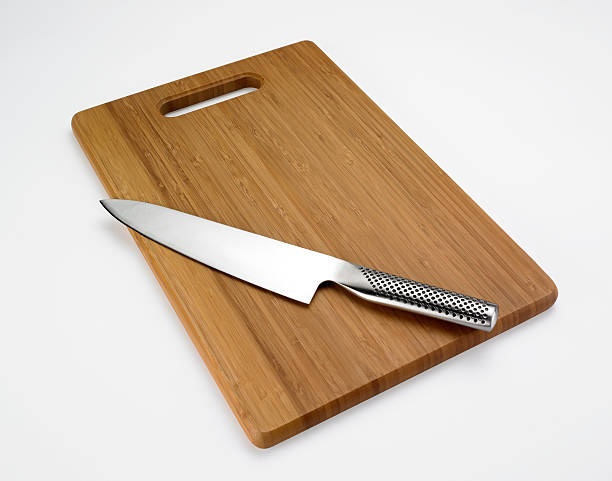knife: (96, 196, 501, 335)
